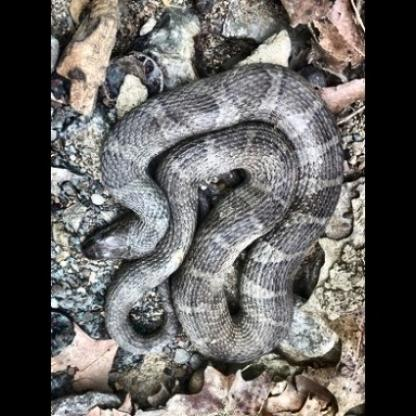Snake: (70, 59, 344, 367)
